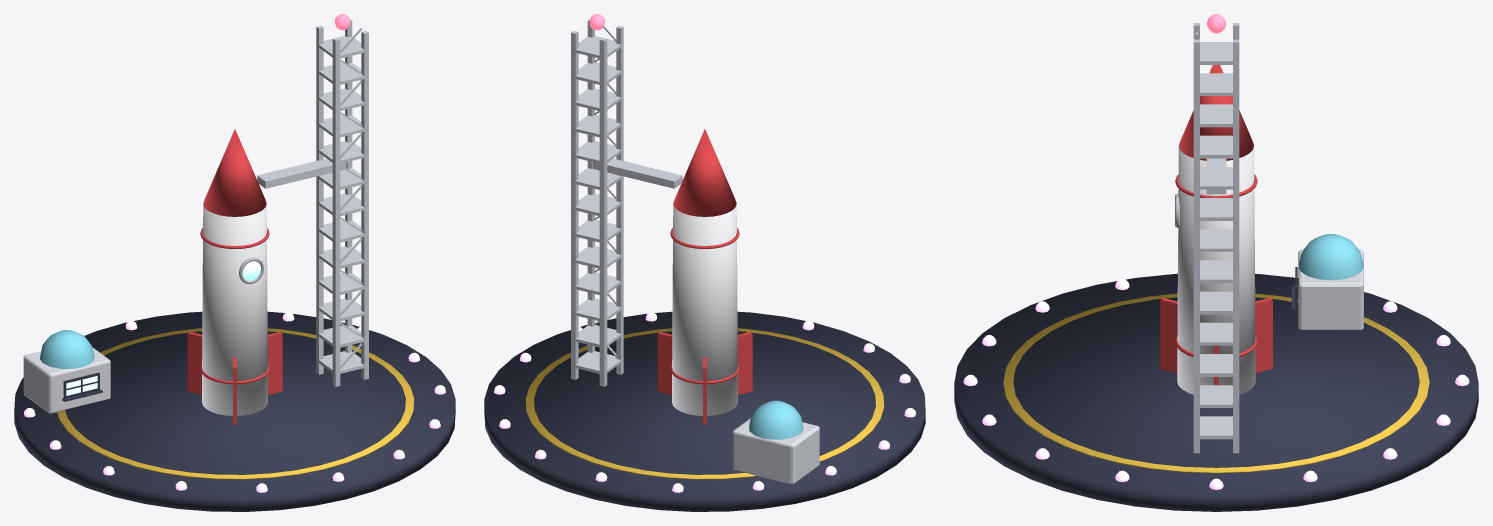
File: stanice.glb
3 views of the same model, side by side, from view 1: azimuth 30°, elevation 25°; view 2: azimuth 150°, elevation 25°; view 3: azimuth 270°, elevation 25° (orthographic). The views are drawn at different scales.
Parts seen in each view (by area): view 1: stanice; view 2: stanice; view 3: stanice.
Part boxes in pixels (box(x1,y1,x2,y2)): stanice: box(14, 14, 455, 511); stanice: box(484, 14, 925, 511); stanice: box(954, 14, 1478, 511).
Bounding box in the file's own units: 16 × 15.1 × 16.
Materials: 4 (4 with a texture image).
